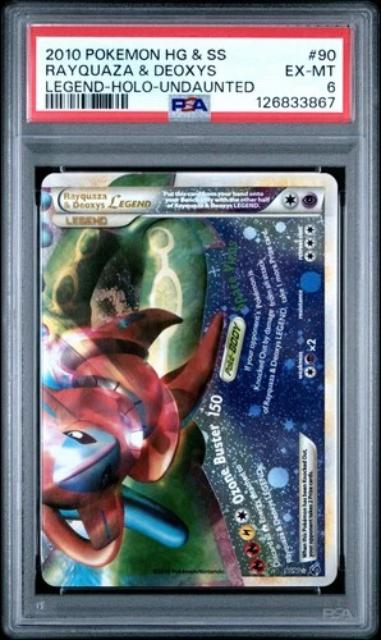Card: (35, 167, 344, 591)
Name: (55, 186, 158, 214)
